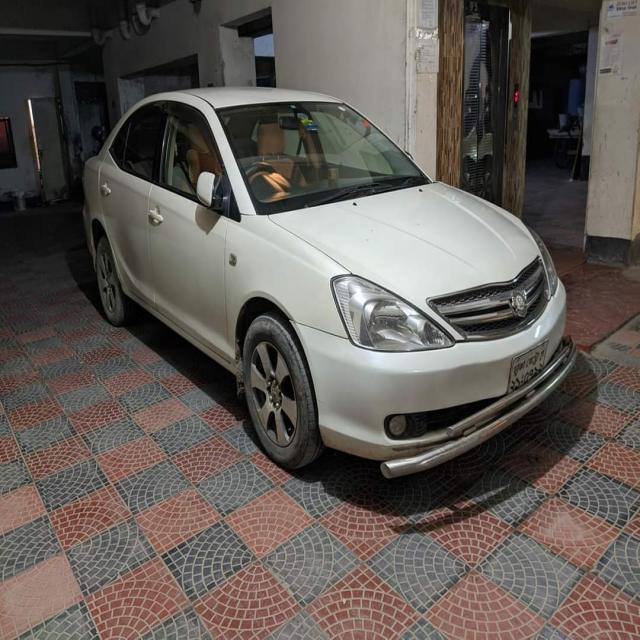white: (70, 73, 622, 475)
